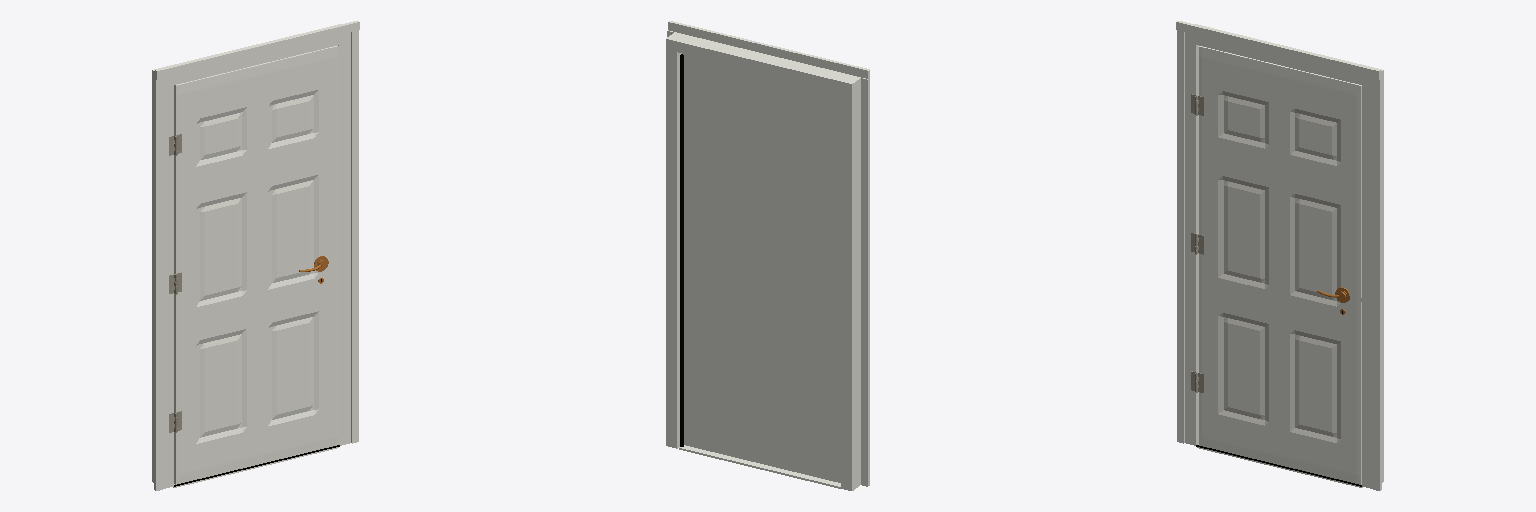
The robot description file, URDF, robot "single_leaf_six_panel_door":
<robot name="single_leaf_six_panel_door">
  <material name="satin_white_paint">
    <color rgba="0.94 0.935 0.905 1" />
    </material>
  <material name="bevel_highlight_white">
    <color rgba="0.98 0.975 0.95 1" />
    </material>
  <material name="narrow_reveal_shadow">
    <color rgba="0.055 0.05 0.044 1" />
    </material>
  <material name="satin_nickel">
    <color rgba="0.66 0.64 0.58 1" />
    </material>
  <material name="warm_brushed_bronze">
    <color rgba="0.72 0.49 0.25 1" />
    </material>
  <material name="keyhole_dark">
    <color rgba="0.02 0.018 0.015 1" />
    </material>
  <link name="fixed_frame" />
  <link name="left_jamb">
    <visual name="left_jamb_board">
      <origin xyz="-0.037 0.024 1.0235" rpy="0 0 0" />
      <geometry>
        <box size="0.062 0.092 2.027" />
        </geometry>
      <material name="satin_white_paint">
        <color rgba="0.94 0.935 0.905 1" />
        </material>
      </visual>
    <visual name="left_casing_flat">
      <origin xyz="-0.0865 -0.019 1.051" rpy="0 0 0" />
      <geometry>
        <box size="0.037 0.018 2.082" />
        </geometry>
      <material name="satin_white_paint">
        <color rgba="0.94 0.935 0.905 1" />
        </material>
      </visual>
    <visual name="left_casing_bead">
      <origin xyz="-0.071 -0.02 1.051" rpy="0 0 0" />
      <geometry>
        <box size="0.006 0.016 2.082" />
        </geometry>
      <material name="satin_white_paint">
        <color rgba="0.94 0.935 0.905 1" />
        </material>
      </visual>
    <visual name="left_inner_stop">
      <origin xyz="0 0.0375 1.012" rpy="0 0 0" />
      <geometry>
        <box size="0.012 0.015 2" />
        </geometry>
      <material name="narrow_reveal_shadow">
        <color rgba="0.055 0.05 0.044 1" />
        </material>
      </visual>
    <collision name="left_jamb_board">
      <origin xyz="-0.037 0.024 1.0235" rpy="0 0 0" />
      <geometry>
        <box size="0.062 0.092 2.027" />
        </geometry>
      </collision>
    <collision name="left_casing_flat">
      <origin xyz="-0.0865 -0.019 1.051" rpy="0 0 0" />
      <geometry>
        <box size="0.037 0.018 2.082" />
        </geometry>
      </collision>
    <collision name="left_casing_bead">
      <origin xyz="-0.071 -0.02 1.051" rpy="0 0 0" />
      <geometry>
        <box size="0.006 0.016 2.082" />
        </geometry>
      </collision>
    <collision name="left_inner_stop">
      <origin xyz="0 0.0375 1.012" rpy="0 0 0" />
      <geometry>
        <box size="0.012 0.015 2" />
        </geometry>
      </collision>
    </link>
  <link name="right_jamb">
    <visual name="right_jamb_board">
      <origin xyz="0.89875 0.024 1.0235" rpy="0 0 0" />
      <geometry>
        <box size="0.0625 0.092 2.027" />
        </geometry>
      <material name="satin_white_paint">
        <color rgba="0.94 0.935 0.905 1" />
        </material>
      </visual>
    <visual name="right_casing_flat">
      <origin xyz="0.9485 -0.019 1.051" rpy="0 0 0" />
      <geometry>
        <box size="0.037 0.018 2.082" />
        </geometry>
      <material name="satin_white_paint">
        <color rgba="0.94 0.935 0.905 1" />
        </material>
      </visual>
    <visual name="right_casing_bead">
      <origin xyz="0.933 -0.02 1.051" rpy="0 0 0" />
      <geometry>
        <box size="0.006 0.016 2.082" />
        </geometry>
      <material name="satin_white_paint">
        <color rgba="0.94 0.935 0.905 1" />
        </material>
      </visual>
    <visual name="right_inner_stop">
      <origin xyz="0.86 0.0375 1.012" rpy="0 0 0" />
      <geometry>
        <box size="0.015 0.015 2" />
        </geometry>
      <material name="narrow_reveal_shadow">
        <color rgba="0.055 0.05 0.044 1" />
        </material>
      </visual>
    <collision name="right_jamb_board">
      <origin xyz="0.89875 0.024 1.0235" rpy="0 0 0" />
      <geometry>
        <box size="0.0625 0.092 2.027" />
        </geometry>
      </collision>
    <collision name="right_casing_flat">
      <origin xyz="0.9485 -0.019 1.051" rpy="0 0 0" />
      <geometry>
        <box size="0.037 0.018 2.082" />
        </geometry>
      </collision>
    <collision name="right_casing_bead">
      <origin xyz="0.933 -0.02 1.051" rpy="0 0 0" />
      <geometry>
        <box size="0.006 0.016 2.082" />
        </geometry>
      </collision>
    <collision name="right_inner_stop">
      <origin xyz="0.86 0.0375 1.012" rpy="0 0 0" />
      <geometry>
        <box size="0.015 0.015 2" />
        </geometry>
      </collision>
    </link>
  <link name="header">
    <visual name="header_board">
      <origin xyz="0.431 0.024 2.0645" rpy="0 0 0" />
      <geometry>
        <box size="0.998 0.092 0.055" />
        </geometry>
      <material name="satin_white_paint">
        <color rgba="0.94 0.935 0.905 1" />
        </material>
      </visual>
    <visual name="header_casing">
      <origin xyz="0.431 -0.025 2.1135" rpy="0 0 0" />
      <geometry>
        <box size="1.072 0.018 0.043" />
        </geometry>
      <material name="satin_white_paint">
        <color rgba="0.94 0.935 0.905 1" />
        </material>
      </visual>
    <visual name="header_inner_stop">
      <origin xyz="0.42925 0.0375 2.037" rpy="0 0 0" />
      <geometry>
        <box size="0.858 0.015 0.01" />
        </geometry>
      <material name="narrow_reveal_shadow">
        <color rgba="0.055 0.05 0.044 1" />
        </material>
      </visual>
    <collision name="header_board">
      <origin xyz="0.431 0.024 2.0645" rpy="0 0 0" />
      <geometry>
        <box size="0.998 0.092 0.055" />
        </geometry>
      </collision>
    <collision name="header_casing">
      <origin xyz="0.431 -0.025 2.1135" rpy="0 0 0" />
      <geometry>
        <box size="1.072 0.018 0.043" />
        </geometry>
      </collision>
    <collision name="header_inner_stop">
      <origin xyz="0.42925 0.0375 2.037" rpy="0 0 0" />
      <geometry>
        <box size="0.858 0.015 0.01" />
        </geometry>
      </collision>
    </link>
  <link name="threshold">
    <visual name="compact_threshold_sill">
      <origin xyz="0.43075 0.0175 0.005" rpy="0 0 0" />
      <geometry>
        <box size="0.8735 0.075 0.01" />
        </geometry>
      <material name="satin_white_paint">
        <color rgba="0.94 0.935 0.905 1" />
        </material>
      </visual>
    <visual name="threshold_shadow_line">
      <origin xyz="0.43075 -0.023 0.013" rpy="0 0 0" />
      <geometry>
        <box size="0.8735 0.006 0.006" />
        </geometry>
      <material name="narrow_reveal_shadow">
        <color rgba="0.055 0.05 0.044 1" />
        </material>
      </visual>
    <collision name="compact_threshold_sill">
      <origin xyz="0.43075 0.0175 0.005" rpy="0 0 0" />
      <geometry>
        <box size="0.8735 0.075 0.01" />
        </geometry>
      </collision>
    <collision name="threshold_shadow_line">
      <origin xyz="0.43075 -0.023 0.013" rpy="0 0 0" />
      <geometry>
        <box size="0.8735 0.006 0.006" />
        </geometry>
      </collision>
    </link>
  <link name="door_panel">
    <visual name="door_slab">
      <geometry>
        <mesh filename="assets/meshes/six_panel_molded_door_panel.obj" />
        </geometry>
      <material name="satin_white_paint">
        <color rgba="0.94 0.935 0.905 1" />
        </material>
      </visual>
    <collision name="door_slab">
      <geometry>
        <mesh filename="assets/meshes/six_panel_molded_door_panel.obj" />
        </geometry>
      </collision>
    </link>
  <link name="hinge_leaf_frame_0">
    <visual name="hinge_leaf_frame_body">
      <origin xyz="0 0 1.6875" rpy="0 0 0" />
      <geometry>
        <mesh filename="assets/meshes/hinge_leaf_frame_mesh.obj" />
        </geometry>
      <material name="satin_nickel">
        <color rgba="0.66 0.64 0.58 1" />
        </material>
      </visual>
    <collision name="hinge_leaf_frame_body">
      <origin xyz="0 0 1.6875" rpy="0 0 0" />
      <geometry>
        <mesh filename="assets/meshes/hinge_leaf_frame_mesh.obj" />
        </geometry>
      </collision>
    </link>
  <link name="hinge_pin_0">
    <visual name="hinge_pin_barrel">
      <origin xyz="0 -0.031 1.735" rpy="0 0 0" />
      <geometry>
        <cylinder radius="0.00345" length="0.103" />
        </geometry>
      <material name="satin_nickel">
        <color rgba="0.66 0.64 0.58 1" />
        </material>
      </visual>
    <collision name="hinge_pin_barrel">
      <origin xyz="0 -0.031 1.735" rpy="0 0 0" />
      <geometry>
        <cylinder radius="0.00345" length="0.103" />
        </geometry>
      </collision>
    </link>
  <link name="hinge_leaf_panel_0">
    <visual name="hinge_leaf_panel_body">
      <origin xyz="0 0 1.6875" rpy="0 0 0" />
      <geometry>
        <mesh filename="assets/meshes/hinge_leaf_panel_mesh.obj" />
        </geometry>
      <material name="satin_nickel">
        <color rgba="0.66 0.64 0.58 1" />
        </material>
      </visual>
    <collision name="hinge_leaf_panel_body">
      <origin xyz="0 0 1.6875" rpy="0 0 0" />
      <geometry>
        <mesh filename="assets/meshes/hinge_leaf_panel_mesh.obj" />
        </geometry>
      </collision>
    </link>
  <link name="hinge_leaf_frame_1">
    <visual name="hinge_leaf_frame_body">
      <origin xyz="0 0 0.9875" rpy="0 0 0" />
      <geometry>
        <mesh filename="assets/meshes/hinge_leaf_frame_mesh.obj" />
        </geometry>
      <material name="satin_nickel">
        <color rgba="0.66 0.64 0.58 1" />
        </material>
      </visual>
    <collision name="hinge_leaf_frame_body">
      <origin xyz="0 0 0.9875" rpy="0 0 0" />
      <geometry>
        <mesh filename="assets/meshes/hinge_leaf_frame_mesh.obj" />
        </geometry>
      </collision>
    </link>
  <link name="hinge_pin_1">
    <visual name="hinge_pin_barrel">
      <origin xyz="0 -0.031 1.035" rpy="0 0 0" />
      <geometry>
        <cylinder radius="0.00345" length="0.103" />
        </geometry>
      <material name="satin_nickel">
        <color rgba="0.66 0.64 0.58 1" />
        </material>
      </visual>
    <collision name="hinge_pin_barrel">
      <origin xyz="0 -0.031 1.035" rpy="0 0 0" />
      <geometry>
        <cylinder radius="0.00345" length="0.103" />
        </geometry>
      </collision>
    </link>
  <link name="hinge_leaf_panel_1">
    <visual name="hinge_leaf_panel_body">
      <origin xyz="0 0 0.9875" rpy="0 0 0" />
      <geometry>
        <mesh filename="assets/meshes/hinge_leaf_panel_mesh.obj" />
        </geometry>
      <material name="satin_nickel">
        <color rgba="0.66 0.64 0.58 1" />
        </material>
      </visual>
    <collision name="hinge_leaf_panel_body">
      <origin xyz="0 0 0.9875" rpy="0 0 0" />
      <geometry>
        <mesh filename="assets/meshes/hinge_leaf_panel_mesh.obj" />
        </geometry>
      </collision>
    </link>
  <link name="hinge_leaf_frame_2">
    <visual name="hinge_leaf_frame_body">
      <origin xyz="0 0 0.2875" rpy="0 0 0" />
      <geometry>
        <mesh filename="assets/meshes/hinge_leaf_frame_mesh.obj" />
        </geometry>
      <material name="satin_nickel">
        <color rgba="0.66 0.64 0.58 1" />
        </material>
      </visual>
    <collision name="hinge_leaf_frame_body">
      <origin xyz="0 0 0.2875" rpy="0 0 0" />
      <geometry>
        <mesh filename="assets/meshes/hinge_leaf_frame_mesh.obj" />
        </geometry>
      </collision>
    </link>
  <link name="hinge_pin_2">
    <visual name="hinge_pin_barrel">
      <origin xyz="0 -0.031 0.335" rpy="0 0 0" />
      <geometry>
        <cylinder radius="0.00345" length="0.103" />
        </geometry>
      <material name="satin_nickel">
        <color rgba="0.66 0.64 0.58 1" />
        </material>
      </visual>
    <collision name="hinge_pin_barrel">
      <origin xyz="0 -0.031 0.335" rpy="0 0 0" />
      <geometry>
        <cylinder radius="0.00345" length="0.103" />
        </geometry>
      </collision>
    </link>
  <link name="hinge_leaf_panel_2">
    <visual name="hinge_leaf_panel_body">
      <origin xyz="0 0 0.2875" rpy="0 0 0" />
      <geometry>
        <mesh filename="assets/meshes/hinge_leaf_panel_mesh.obj" />
        </geometry>
      <material name="satin_nickel">
        <color rgba="0.66 0.64 0.58 1" />
        </material>
      </visual>
    <collision name="hinge_leaf_panel_body">
      <origin xyz="0 0 0.2875" rpy="0 0 0" />
      <geometry>
        <mesh filename="assets/meshes/hinge_leaf_panel_mesh.obj" />
        </geometry>
      </collision>
    </link>
  <link name="handle_back_plate">
    <visual name="rosette_trim">
      <origin xyz="0.769 0.006 0.955" rpy="1.5708 0 0" />
      <geometry>
        <cylinder radius="0.038" length="0.006" />
        </geometry>
      <material name="warm_brushed_bronze">
        <color rgba="0.72 0.49 0.25 1" />
        </material>
      </visual>
    <visual name="handle_back_plate_disc">
      <origin xyz="0.769 0.0022 0.955" rpy="1.5708 0 0" />
      <geometry>
        <cylinder radius="0.026" length="0.0025" />
        </geometry>
      <material name="warm_brushed_bronze">
        <color rgba="0.72 0.49 0.25 1" />
        </material>
      </visual>
    <collision name="rosette_trim">
      <origin xyz="0.769 0.006 0.955" rpy="1.5708 0 0" />
      <geometry>
        <cylinder radius="0.038" length="0.006" />
        </geometry>
      </collision>
    <collision name="handle_back_plate_disc">
      <origin xyz="0.769 0.0022 0.955" rpy="1.5708 0 0" />
      <geometry>
        <cylinder radius="0.026" length="0.0025" />
        </geometry>
      </collision>
    </link>
  <link name="lock_cylinder">
    <visual name="lock_cylinder_trim">
      <origin xyz="0.769 0.0065 0.87" rpy="1.5708 0 0" />
      <geometry>
        <cylinder radius="0.0135" length="0.005" />
        </geometry>
      <material name="warm_brushed_bronze">
        <color rgba="0.72 0.49 0.25 1" />
        </material>
      </visual>
    <visual name="keyhole_slot">
      <origin xyz="0.769 0.0042 0.87" rpy="0 0 0" />
      <geometry>
        <box size="0.004 0.0015 0.014" />
        </geometry>
      <material name="keyhole_dark">
        <color rgba="0.02 0.018 0.015 1" />
        </material>
      </visual>
    <collision name="lock_cylinder_trim">
      <origin xyz="0.769 0.0065 0.87" rpy="1.5708 0 0" />
      <geometry>
        <cylinder radius="0.0135" length="0.005" />
        </geometry>
      </collision>
    <collision name="keyhole_slot">
      <origin xyz="0.769 0.0042 0.87" rpy="0 0 0" />
      <geometry>
        <box size="0.004 0.0015 0.014" />
        </geometry>
      </collision>
    </link>
  <link name="条形把手">
    <visual name="spindle_hub">
      <origin xyz="0 -0.006 0" rpy="1.5708 0 0" />
      <geometry>
        <cylinder radius="0.02" length="0.012" />
        </geometry>
      <material name="warm_brushed_bronze">
        <color rgba="0.72 0.49 0.25 1" />
        </material>
      </visual>
    <visual name="lever">
      <geometry>
        <mesh filename="assets/meshes/curved_down_press_lever.obj" />
        </geometry>
      <material name="warm_brushed_bronze">
        <color rgba="0.72 0.49 0.25 1" />
        </material>
      </visual>
    <collision name="spindle_hub">
      <origin xyz="0 -0.006 0" rpy="1.5708 0 0" />
      <geometry>
        <cylinder radius="0.02" length="0.012" />
        </geometry>
      </collision>
    <collision name="lever">
      <geometry>
        <mesh filename="assets/meshes/curved_down_press_lever.obj" />
        </geometry>
      </collision>
    </link>
  <link name="latch_tongue">
    <visual name="small_latch_tongue">
      <origin xyz="0.8646 0.019 0.95" rpy="0 0 0" />
      <geometry>
        <box size="0.0012 0.02 0.018" />
        </geometry>
      <material name="satin_nickel">
        <color rgba="0.66 0.64 0.58 1" />
        </material>
      </visual>
    <visual name="latch_face_detail">
      <origin xyz="0.8645 0.03 0.95" rpy="0 0 0" />
      <geometry>
        <box size="0.001 0.03 0.062" />
        </geometry>
      <material name="satin_nickel">
        <color rgba="0.66 0.64 0.58 1" />
        </material>
      </visual>
    <collision name="small_latch_tongue">
      <origin xyz="0.8646 0.019 0.95" rpy="0 0 0" />
      <geometry>
        <box size="0.0012 0.02 0.018" />
        </geometry>
      </collision>
    <collision name="latch_face_detail">
      <origin xyz="0.8645 0.03 0.95" rpy="0 0 0" />
      <geometry>
        <box size="0.001 0.03 0.062" />
        </geometry>
      </collision>
    </link>
  <link name="strike_plate">
    <visual name="strike_plate_face">
      <origin xyz="0.867 0.005 0.95" rpy="0 0 0" />
      <geometry>
        <box size="0.001 0.04 0.11" />
        </geometry>
      <material name="satin_nickel">
        <color rgba="0.66 0.64 0.58 1" />
        </material>
      </visual>
    <visual name="strike_latch_opening">
      <origin xyz="0.8665 0.004 0.95" rpy="0 0 0" />
      <geometry>
        <box size="0.0008 0.02 0.03" />
        </geometry>
      <material name="narrow_reveal_shadow">
        <color rgba="0.055 0.05 0.044 1" />
        </material>
      </visual>
    <collision name="strike_plate_face">
      <origin xyz="0.867 0.005 0.95" rpy="0 0 0" />
      <geometry>
        <box size="0.001 0.04 0.11" />
        </geometry>
      </collision>
    <collision name="strike_latch_opening">
      <origin xyz="0.8665 0.004 0.95" rpy="0 0 0" />
      <geometry>
        <box size="0.0008 0.02 0.03" />
        </geometry>
      </collision>
    </link>
  <joint name="fixed_frame_to_left_jamb" type="fixed">
    <parent link="fixed_frame" />
    <child link="left_jamb" />
    </joint>
  <joint name="fixed_frame_to_right_jamb" type="fixed">
    <parent link="fixed_frame" />
    <child link="right_jamb" />
    </joint>
  <joint name="fixed_frame_to_header" type="fixed">
    <parent link="fixed_frame" />
    <child link="header" />
    </joint>
  <joint name="fixed_frame_to_threshold" type="fixed">
    <parent link="fixed_frame" />
    <child link="threshold" />
    </joint>
  <joint name="door_hinge_joint" type="revolute">
    <origin xyz="0 -0.031 0" rpy="0 0 0" />
    <parent link="fixed_frame" />
    <child link="door_panel" />
    <axis xyz="0 0 -1" />
    <limit effort="45" velocity="1.2" lower="0" upper="1.8326" />
    </joint>
  <joint name="left_jamb_to_hinge_leaf_frame_0" type="fixed">
    <parent link="left_jamb" />
    <child link="hinge_leaf_frame_0" />
    </joint>
  <joint name="hinge_leaf_frame_to_hinge_pin_0" type="fixed">
    <parent link="hinge_leaf_frame_0" />
    <child link="hinge_pin_0" />
    </joint>
  <joint name="door_panel_to_hinge_leaf_panel_0" type="fixed">
    <parent link="door_panel" />
    <child link="hinge_leaf_panel_0" />
    </joint>
  <joint name="left_jamb_to_hinge_leaf_frame_1" type="fixed">
    <parent link="left_jamb" />
    <child link="hinge_leaf_frame_1" />
    </joint>
  <joint name="hinge_leaf_frame_to_hinge_pin_1" type="fixed">
    <parent link="hinge_leaf_frame_1" />
    <child link="hinge_pin_1" />
    </joint>
  <joint name="door_panel_to_hinge_leaf_panel_1" type="fixed">
    <parent link="door_panel" />
    <child link="hinge_leaf_panel_1" />
    </joint>
  <joint name="left_jamb_to_hinge_leaf_frame_2" type="fixed">
    <parent link="left_jamb" />
    <child link="hinge_leaf_frame_2" />
    </joint>
  <joint name="hinge_leaf_frame_to_hinge_pin_2" type="fixed">
    <parent link="hinge_leaf_frame_2" />
    <child link="hinge_pin_2" />
    </joint>
  <joint name="door_panel_to_hinge_leaf_panel_2" type="fixed">
    <parent link="door_panel" />
    <child link="hinge_leaf_panel_2" />
    </joint>
  <joint name="door_panel_to_handle_back_plate" type="fixed">
    <parent link="door_panel" />
    <child link="handle_back_plate" />
    </joint>
  <joint name="door_panel_to_lock_cylinder" type="fixed">
    <parent link="door_panel" />
    <child link="lock_cylinder" />
    </joint>
  <joint name="handle_actuation_joint" type="revolute">
    <origin xyz="0.769 0.003 0.955" rpy="0 0 0" />
    <parent link="door_panel" />
    <child link="条形把手" />
    <axis xyz="0 -1 0" />
    <limit effort="1.5" velocity="3" lower="0" upper="0.523599" />
    </joint>
  <joint name="door_panel_to_latch_tongue" type="fixed">
    <parent link="door_panel" />
    <child link="latch_tongue" />
    </joint>
  <joint name="right_jamb_to_strike_plate" type="fixed">
    <parent link="right_jamb" />
    <child link="strike_plate" />
    </joint>
  </robot>

--- What the picture shows (computed from the rendered views, not written in the file) ---
Views: 3 orthographic renders of the robot side by side, from view 1: azimuth 30°, elevation 25°; view 2: azimuth 150°, elevation 25°; view 3: azimuth 330°, elevation 25°.
Robot: single_leaf_six_panel_door — 20 links, 19 joints (2 revolute, 17 fixed); root link fixed_frame; default pose: every joint at zero.
Links seen in each view (by area): view 1: door_panel, left_jamb, right_jamb, header; view 2: door_panel, left_jamb, right_jamb, header, threshold; view 3: door_panel, right_jamb, left_jamb, header.
Boxes of the visible links, x1,y1,x2,y2 form: door_panel: (174,45,338,484); left_jamb: (152,78,173,490); right_jamb: (338,31,358,445); header: (152,21,359,87); door_panel: (683,54,840,482); left_jamb: (841,78,869,490); right_jamb: (666,30,683,448); header: (666,21,869,94); threshold: (679,445,840,488); door_panel: (1199,46,1361,484); right_jamb: (1362,78,1383,490); left_jamb: (1177,31,1198,445); header: (1176,21,1383,87).
Size in the robot's own frame: 1.07 by 0.1233 by 2.13 metres.
Meshes: 4 distinct files referenced, 8 mesh visuals loaded (4 OBJ).
